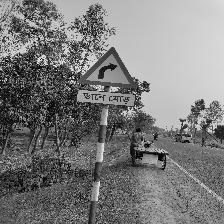Right-turn: (76, 47, 139, 106)
